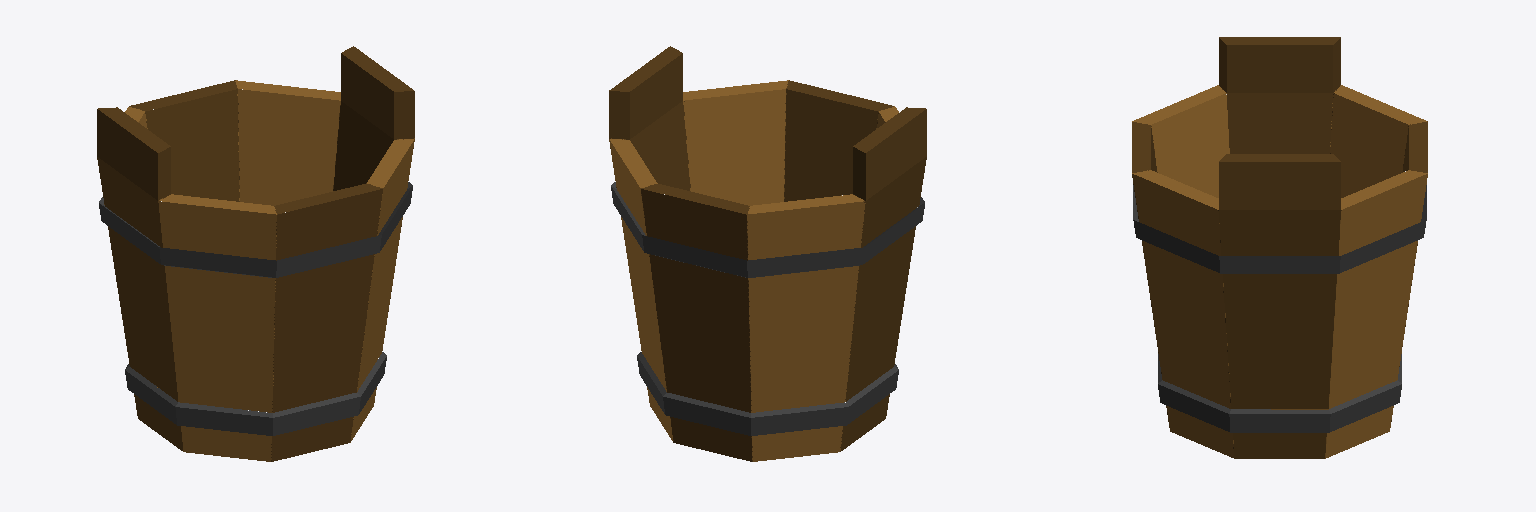
3 views of the same model, side by side, from view 1: azimuth 30°, elevation 25°; view 2: azimuth 150°, elevation 25°; view 3: azimuth 270°, elevation 25° (orthographic).
Visible parts, largest first — view 1: Cylinder; view 2: Cylinder; view 3: Cylinder.
Part boxes in pixels (left/top/right/bottom): Cylinder: left=97, top=46, right=414, bottom=461; Cylinder: left=609, top=46, right=926, bottom=461; Cylinder: left=1132, top=37, right=1427, bottom=458.
Bounding box in the file's own units: 0.491 × 0.5712 × 0.491.
Materials: 1 (1 with a texture image).